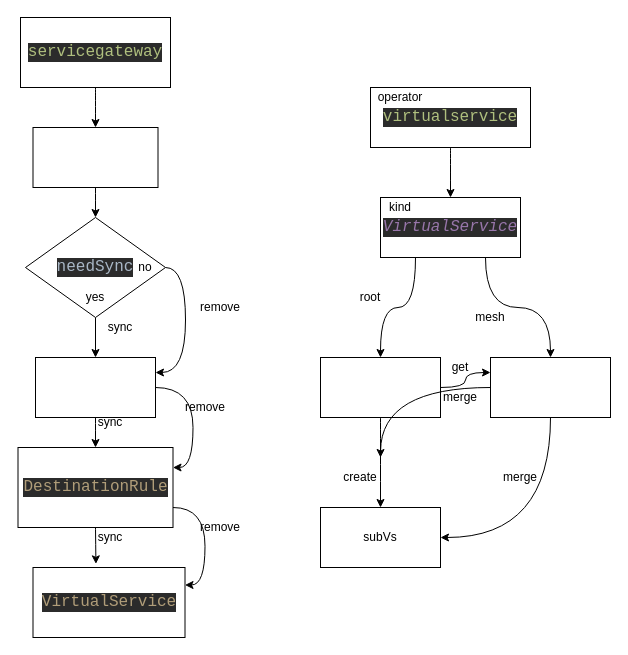
This 628x655 diagram has some shape labels left out. The box of each missing label's shape, as (x1, y1, x2, y2) in pixels:
Gateway: (34, 356, 156, 418)
meshVs: (490, 356, 610, 418)
rootVs: (320, 356, 440, 418)
ServiceEntry: (32, 126, 158, 188)
